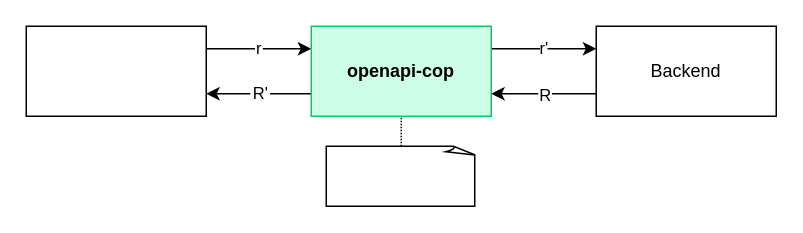
The diagram is 803 pixels wide and 233 high, and some of its shapes have lost their labels. Each missing label, with the centre of its shape:
Frontend: the point at 115,70
OpenAPI Document: the point at 400,175
